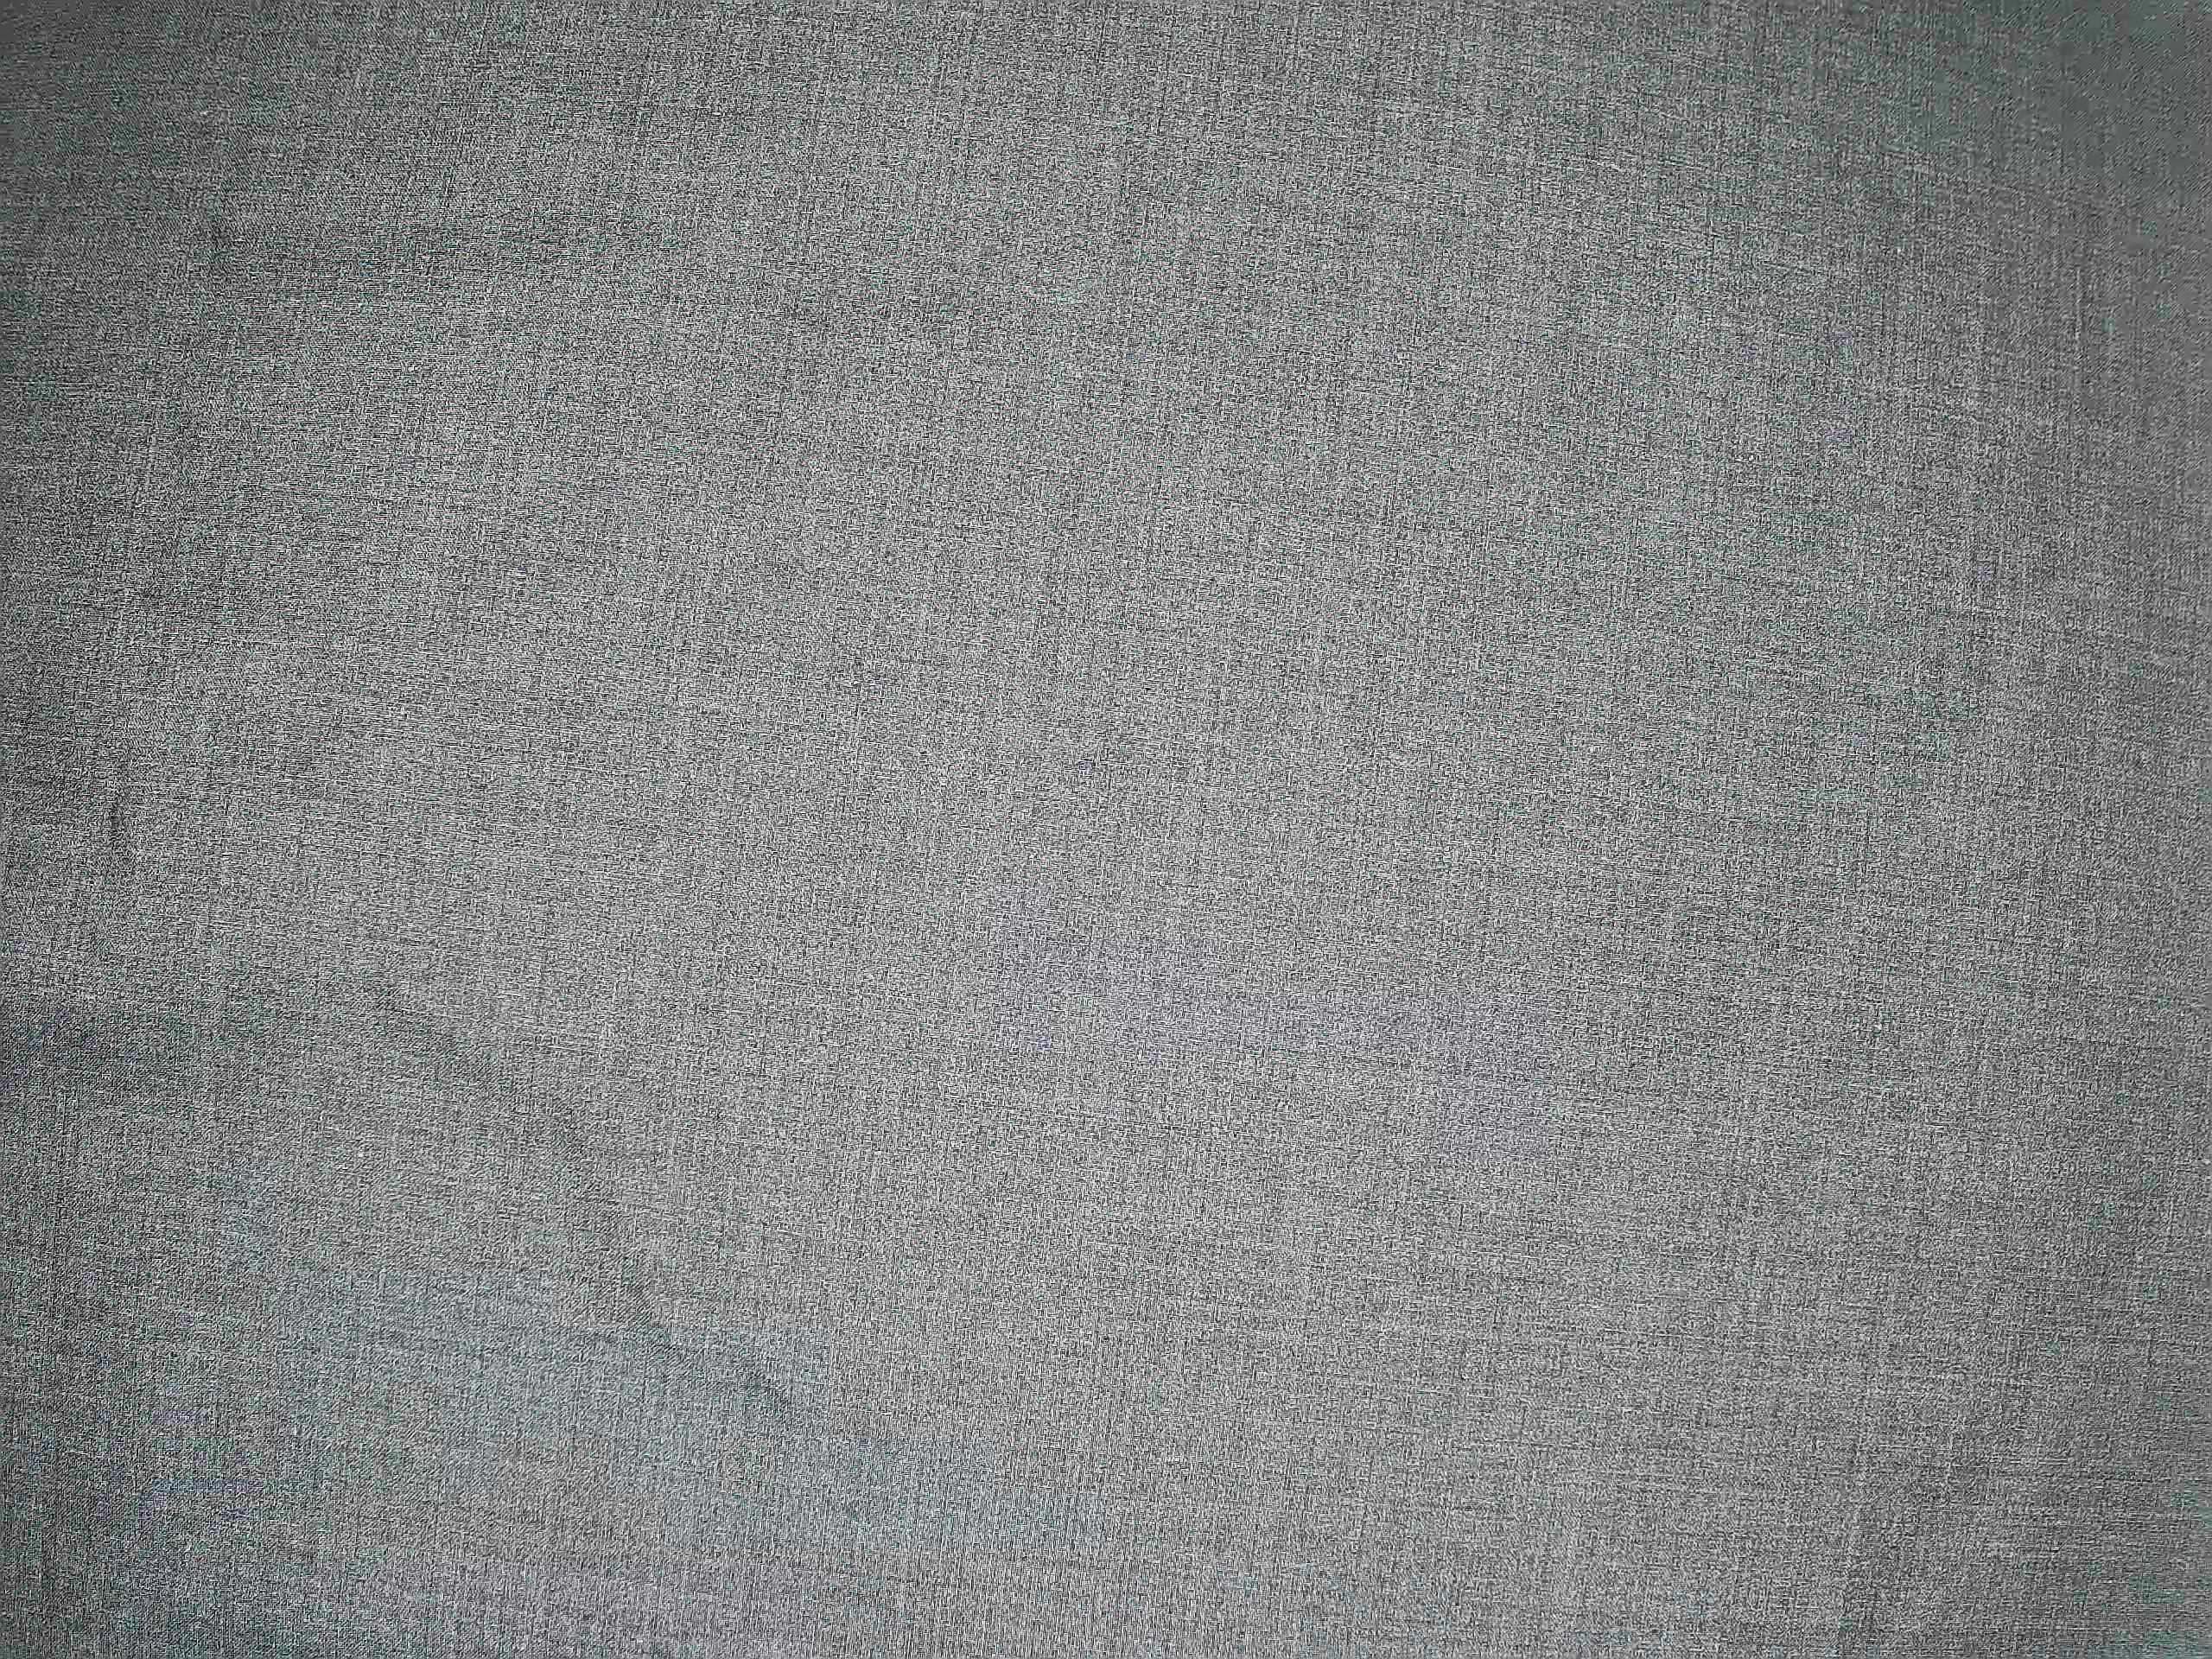others: (385, 995, 796, 1431), (221, 192, 664, 291), (73, 735, 155, 884)
